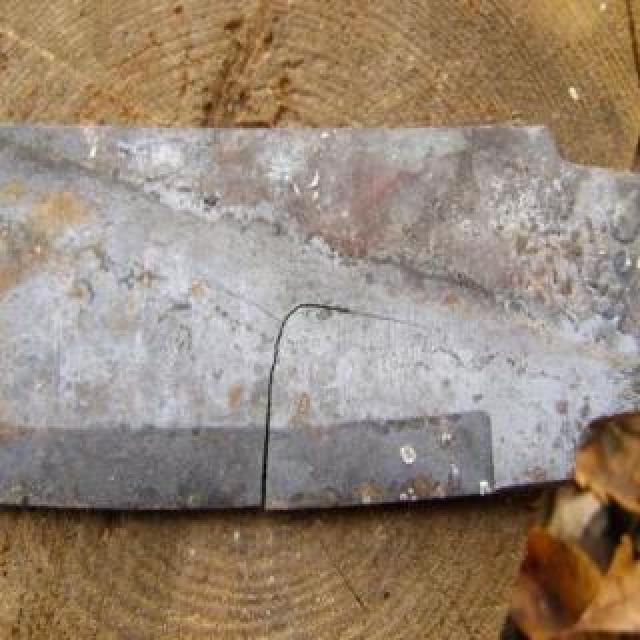crack: (253, 295, 437, 523)
